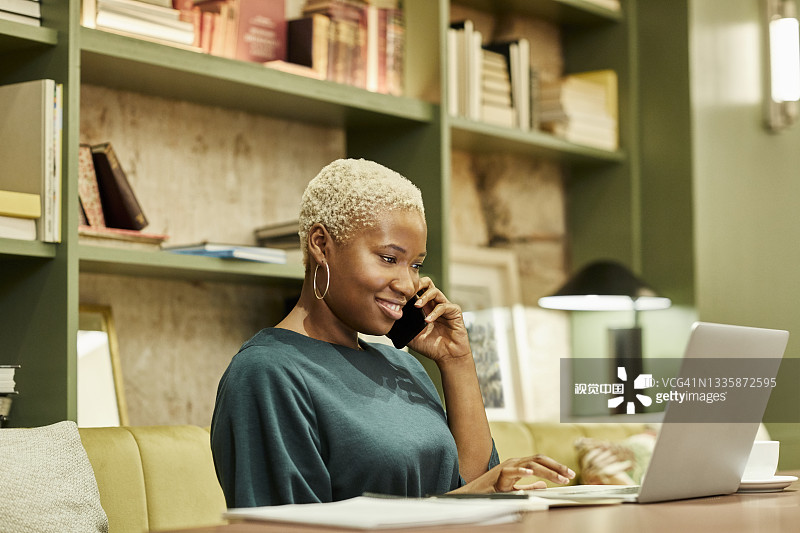calling: (383, 265, 509, 376)
no-phone: (447, 441, 587, 508)
